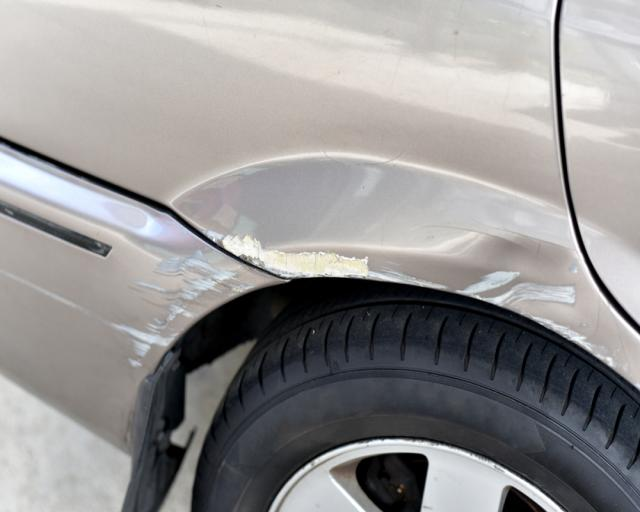dent: (463, 235, 587, 328)
scratch: (0, 247, 254, 373), (218, 229, 457, 294)
